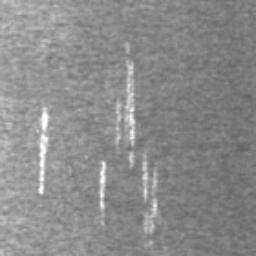White rust: (115, 60, 136, 169), (142, 151, 159, 234), (37, 105, 50, 195), (99, 159, 108, 211), (125, 40, 131, 56)
